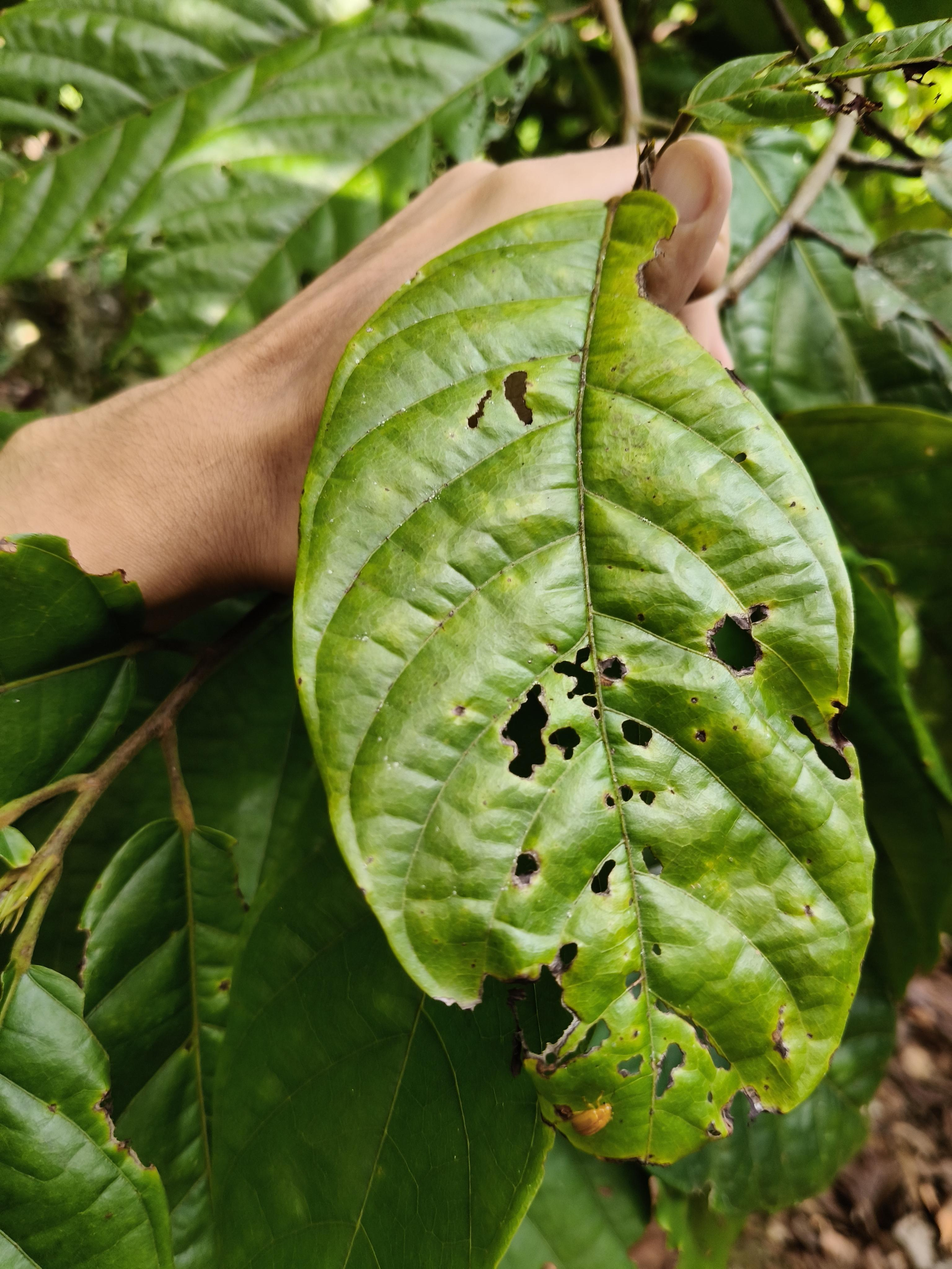deficiencia_potasio: (301, 192, 892, 1149)
